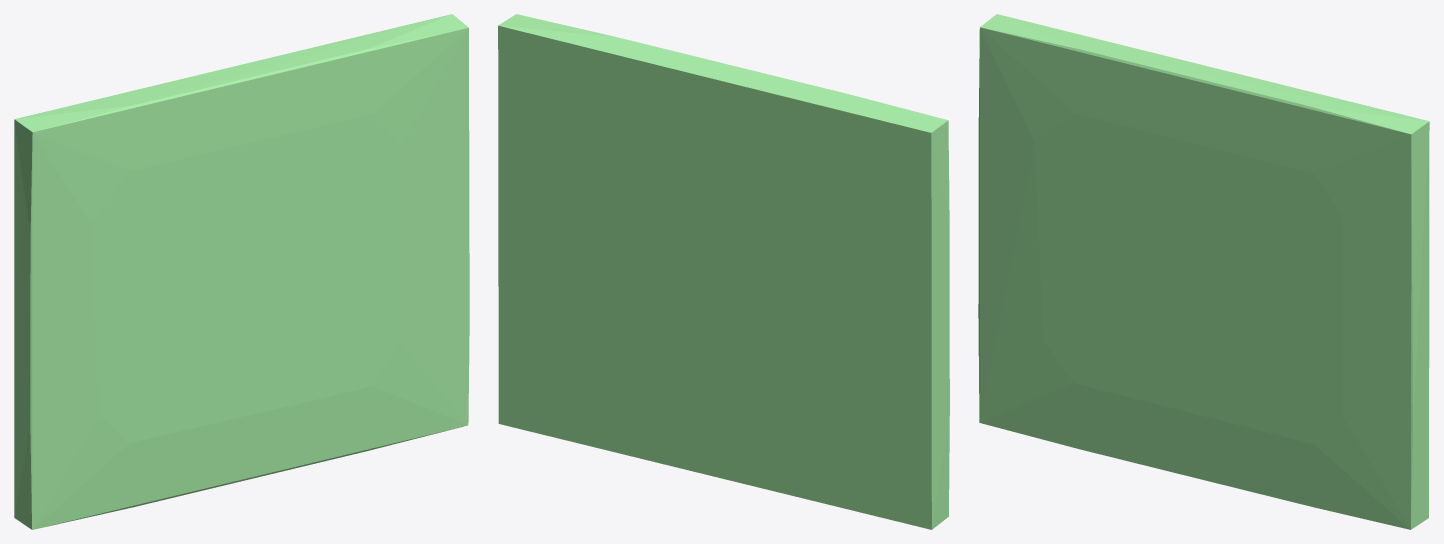
Rendered from panda_leftFinger_coll_2.dae.
3 views of the same model, side by side, from view 1: azimuth 30°, elevation 25°; view 2: azimuth 150°, elevation 25°; view 3: azimuth 330°, elevation 25° (orthographic).
Parts seen in each view (by area): view 1: node; view 2: node; view 3: node.
Boxes of the visible parts, <box> form: node: <box>14,14,469,529</box>; node: <box>498,14,949,529</box>; node: <box>978,14,1429,529</box>.
Bounding box in the file's own units: 0.0239 × 0.0209 × 0.00188.
